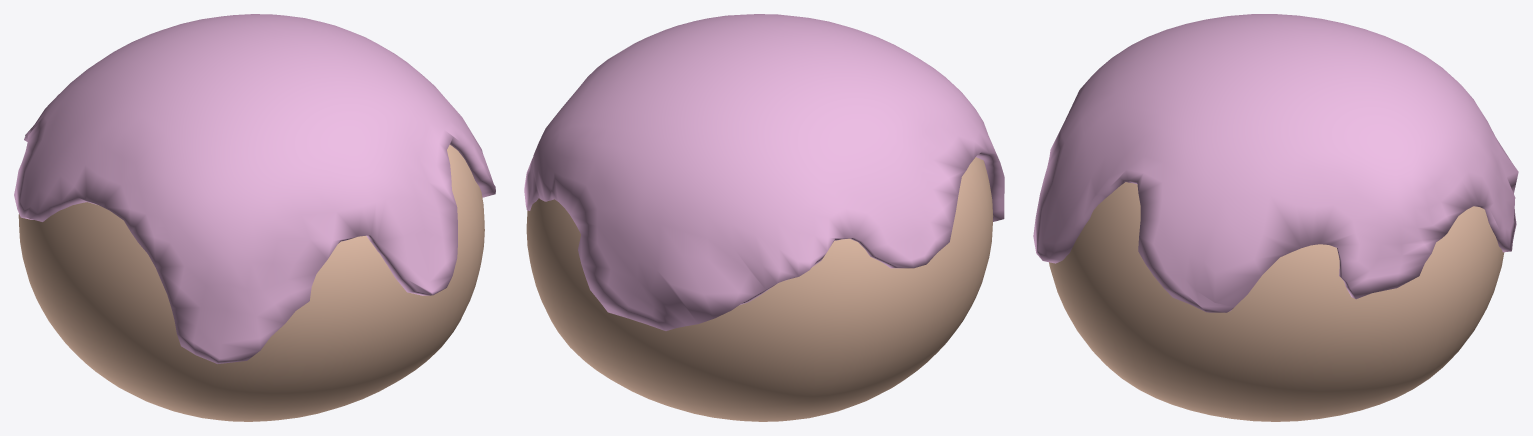
File: red clay.fbx
3 renders of one model, left to right at view 1: azimuth 30°, elevation 25°; view 2: azimuth 150°, elevation 25°; view 3: azimuth 270°, elevation 25°, orthographic.
Parts seen in each view (by area): view 1: red clay; view 2: red clay; view 3: red clay.
Part boxes in pixels (x1=…): red clay: x1=14, y1=14, x2=495, y2=421; red clay: x1=524, y1=14, x2=1004, y2=421; red clay: x1=1033, y1=14, x2=1518, y2=421.
Size of the model in its own units: 167 by 134 by 168.
